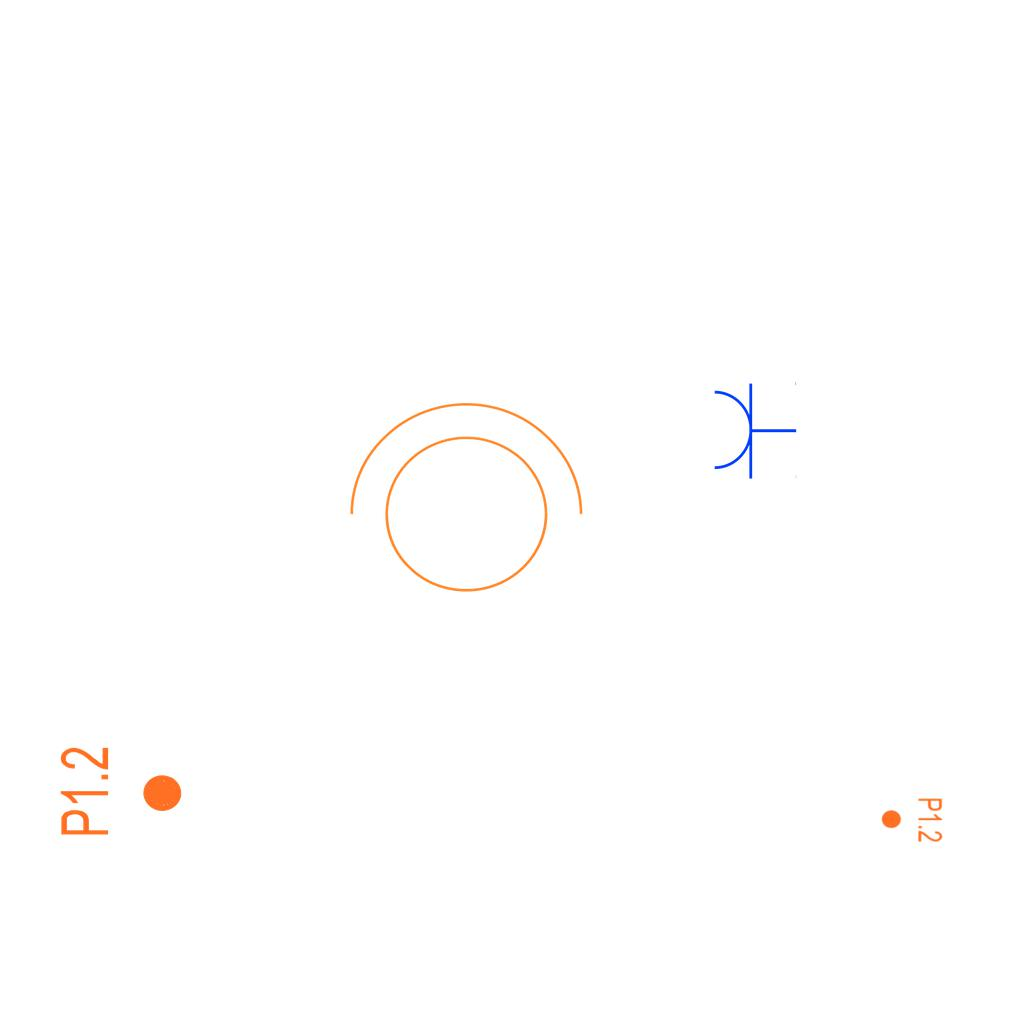Downlight_LED_Einbauleuchten_Flur: (57, 745, 185, 838), (880, 797, 944, 843)
Scheinwerfer_fuer_Alarmbeleuchtung: (328, 392, 592, 617)
Schukosteckdose_einfach: (710, 380, 797, 480)
